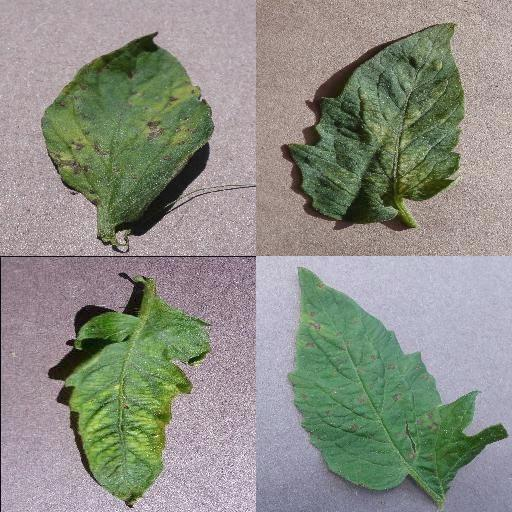Mosaic Virus: (62, 296, 214, 508)
Septoria: (290, 264, 508, 490), (44, 31, 214, 221)
Spider Mites: (287, 22, 465, 224)
